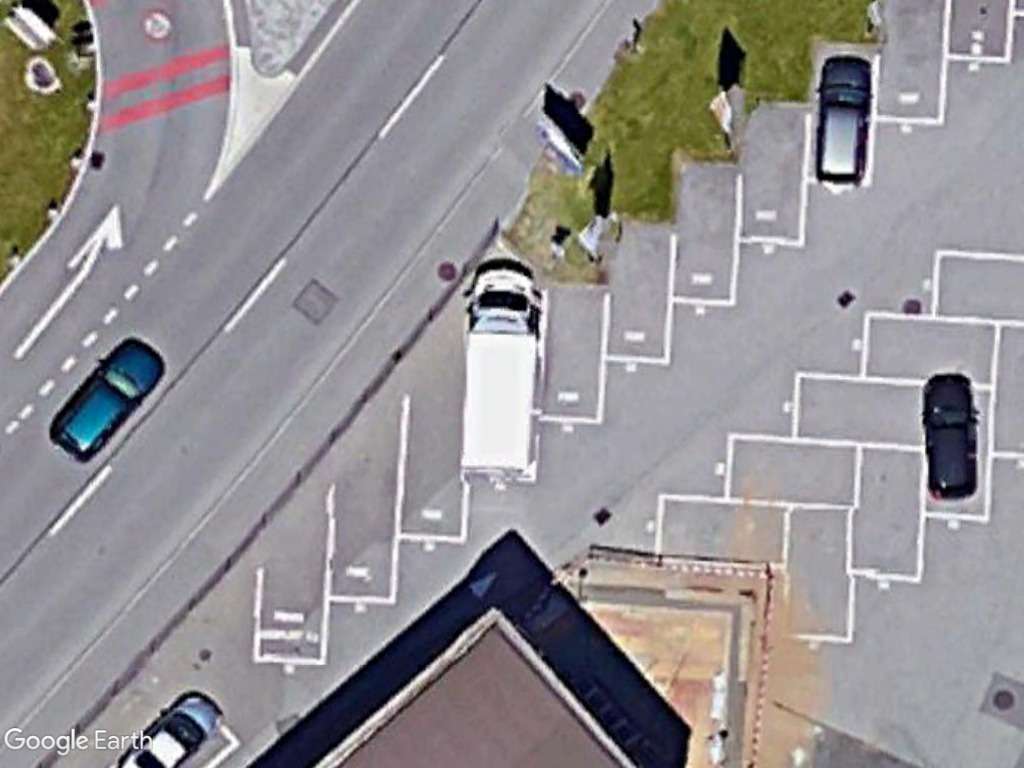car: (49, 330, 168, 466), (919, 368, 985, 504), (816, 49, 873, 189)
truck: (463, 260, 542, 480)
